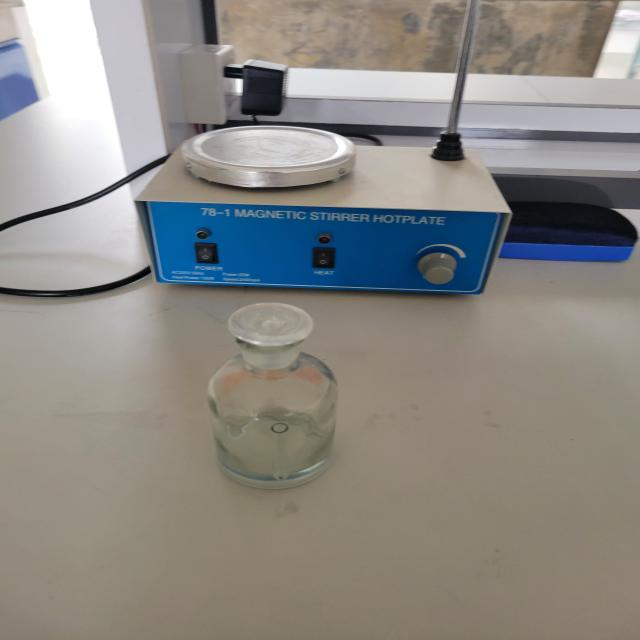Reagent_Bottle: (117, 250, 372, 518)
